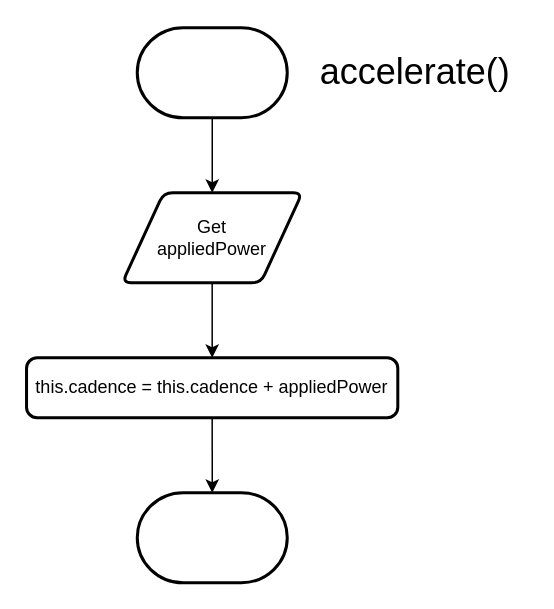
The diagram is 554 pixels wide and 609 high, and some of its shapes have lost their labels. Here are the shapes that lost their labels. From the top down, the centre of each, then its label:
At [211,72]: "Start".
At [211,537]: "Stop".
